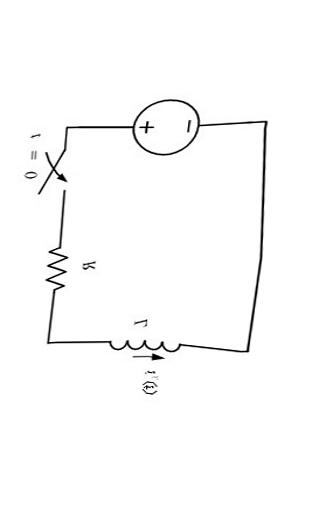Battery: (109, 85, 223, 178)
